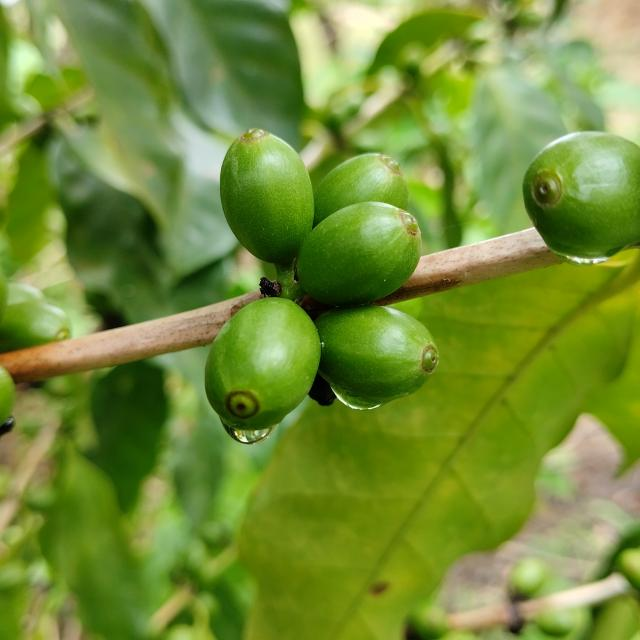green: (205, 298, 321, 430), (524, 131, 640, 258), (297, 201, 422, 306), (220, 128, 314, 266), (315, 305, 439, 401), (313, 152, 409, 227)
